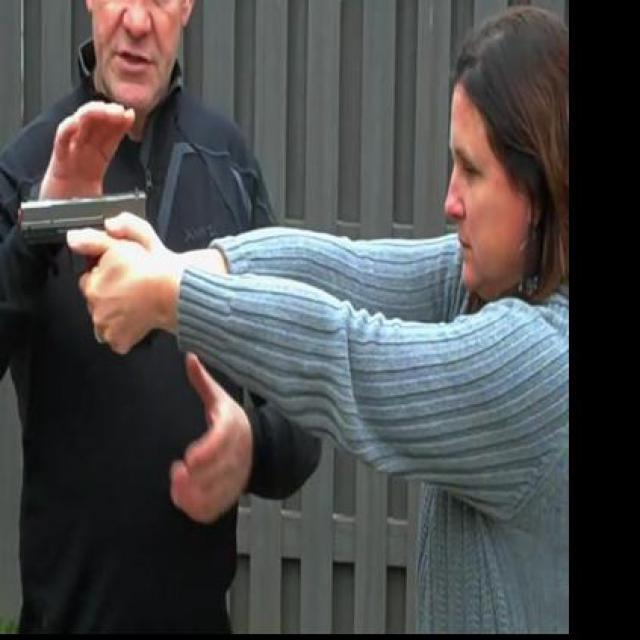gun: (13, 186, 156, 350)
